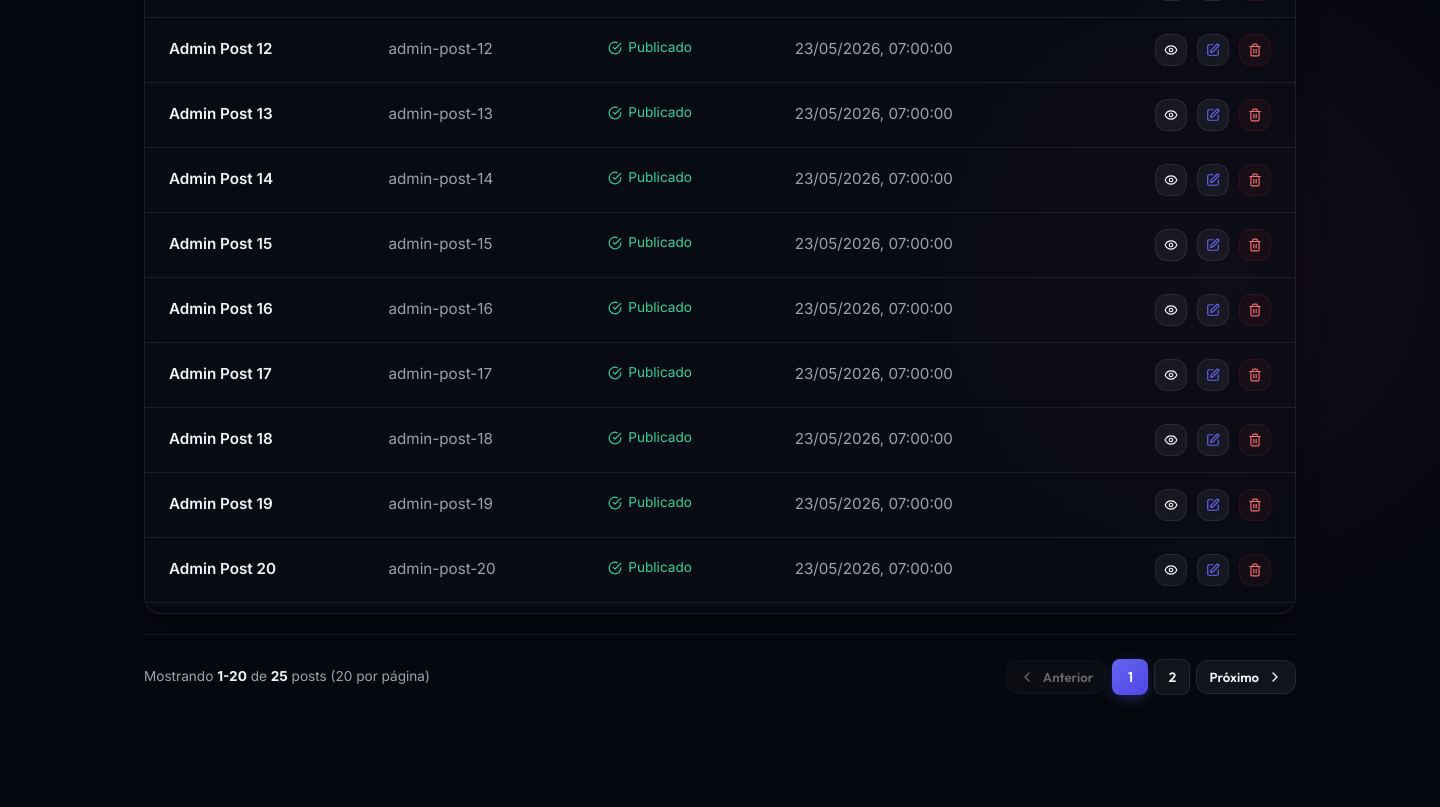
Test: AdminDashboard Component › paginates posts showing 20 per page in admin table
(page scrolled)
Expected: the text "Admin Post 20" is shown, [145,537,364,602]
Expected: the text "Admin Post 21" is not shown
Note: Navegar para a página 2
Click the button with test id "pagination-next" at (1246, 676), box [1196,660,1296,694]
(page scrolled)
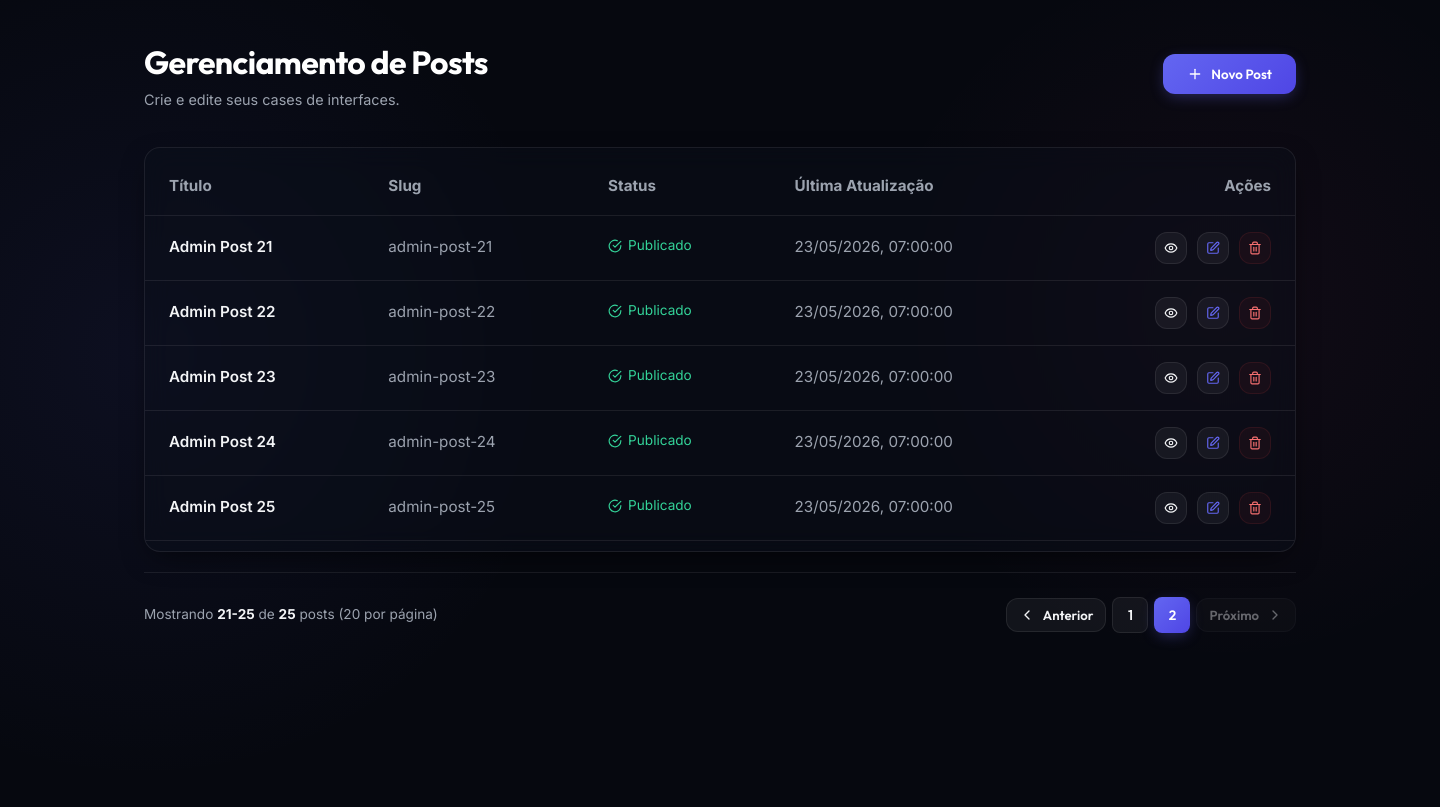
Expected: the text "Admin Post 1" is not shown
Now the text "Admin Post 21" is shown, box [145,215,364,280]
Now the text "Admin Post 25" is shown, box [145,475,364,540]
